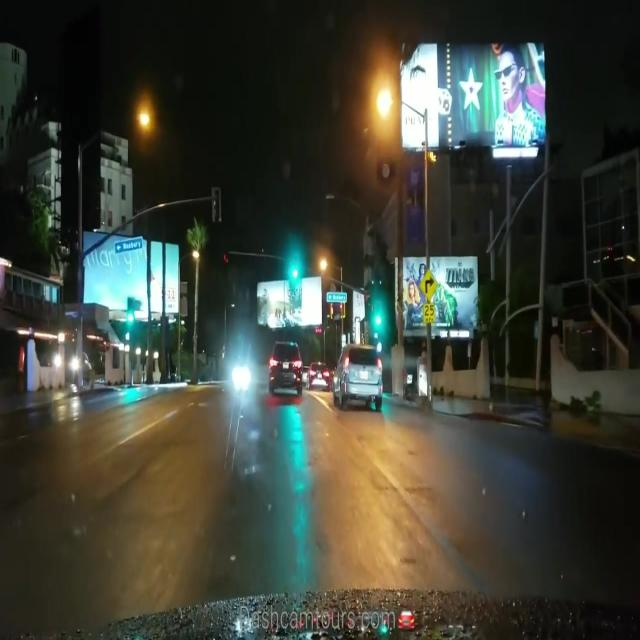Car: (334, 338, 381, 402), (266, 338, 301, 393)
